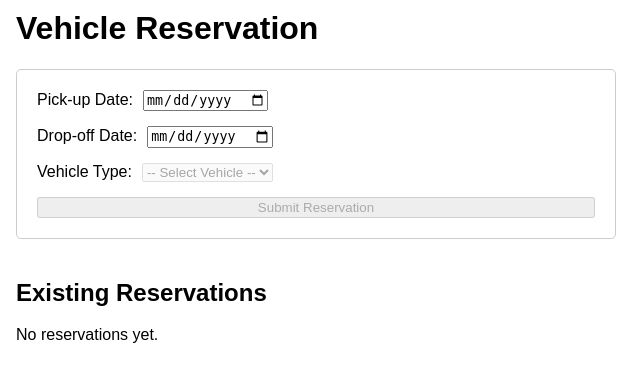
Test: Vehicle Reservation Application › allows a user to create a reservation
# select dates
Type "2025-08-01" into the date field labelled "Pick-up Date:" at (206, 101), box [143,90,268,111]
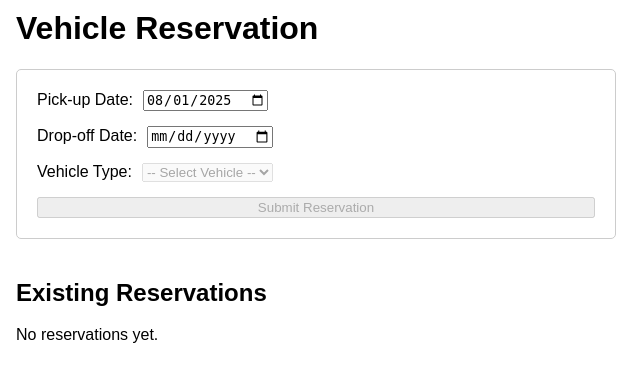
Type "2025-08-05" into the date field labelled "Drop-off Date:" at (210, 137), box [147,126,272,148]
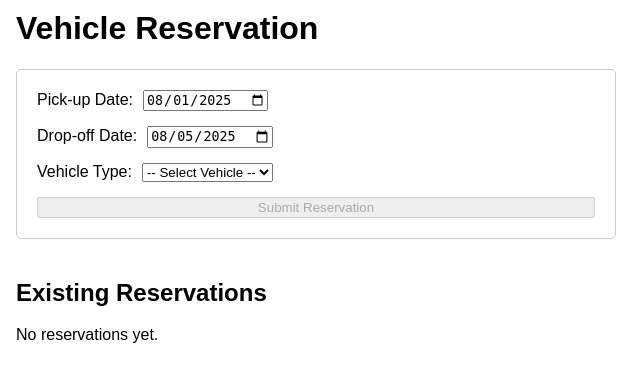
# choose vehicle
Select "Sedan" in the dropdown labelled "Vehicle Type:" at (207, 172), box [142,162,273,182]
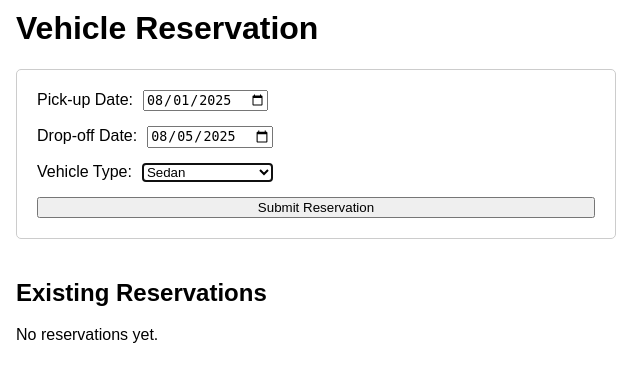
Click the button "Submit Reservation" at (316, 207), box [37,196,595,218]
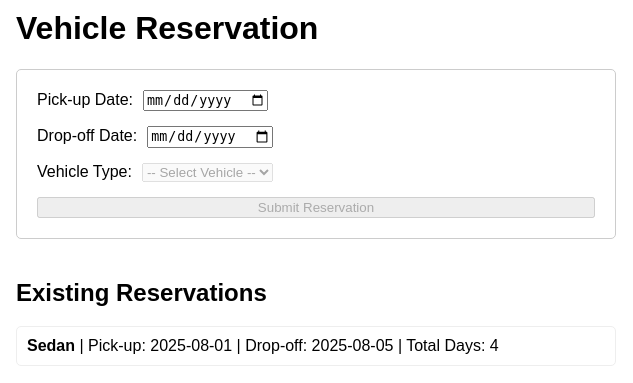
Now the list item "Total Days: 4" is shown, box [16,326,616,366]
